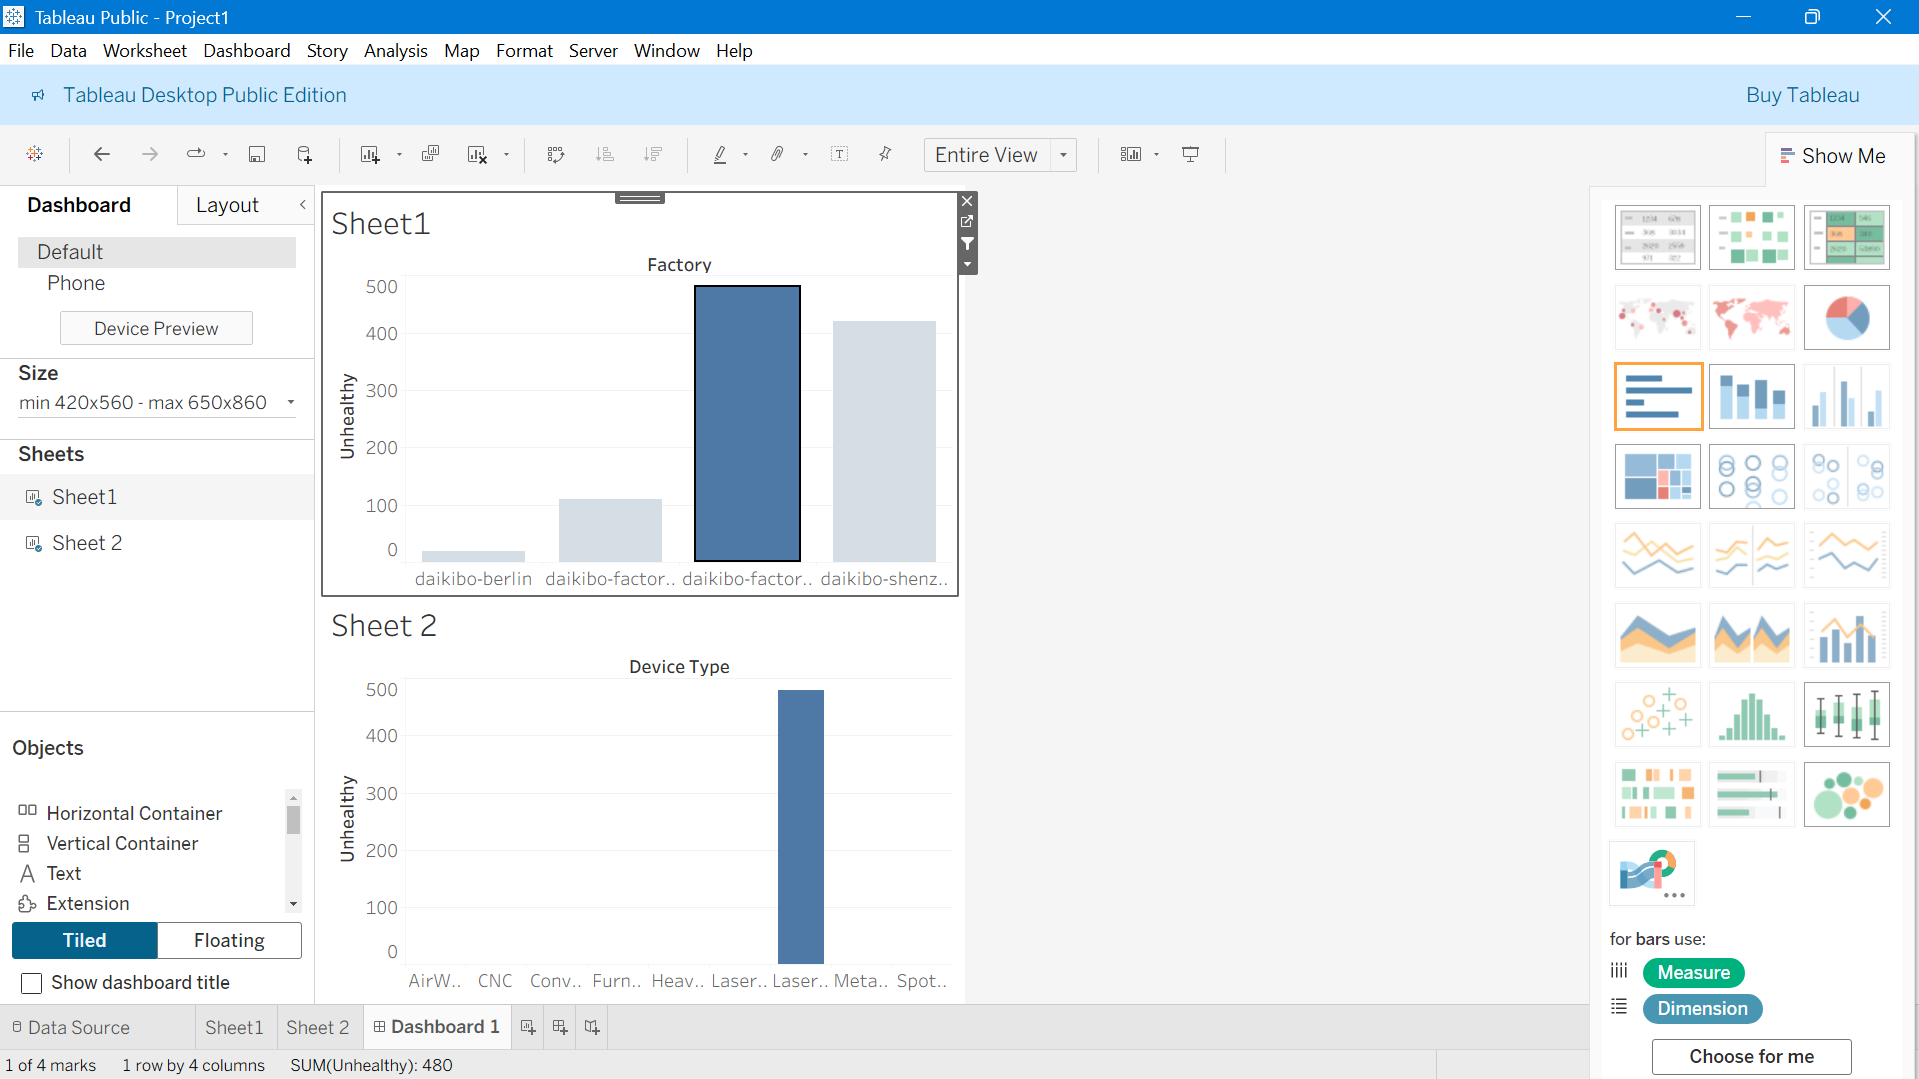

The dashboard page shown, as its layout file describes it:
{"tool":"tableau","page":{"name":"Dashboard 1","canvas":[650,860],"ordinal":0},"visuals":[{"type":"worksheet","title":"Sheet1","mark":"Automatic","rows":["Calculation_785033748454440962"],"cols":["factory"],"box":[8,8.4,634,421.6]},{"type":"worksheet","title":"Sheet 2","mark":"Automatic","rows":["Calculation_785033748454440962"],"cols":["deviceType"],"box":[8,430,634,421.6]}]}

Visuals, with their boxes on the page's 650x860 design canvas (x1, y1, x2, y2). These are canvas units, not pixel positions in the 1919x1079 screenshot, which may show the page scaled, cropped or inside an application window:
"Sheet1" worksheet: x1=8, y1=8, x2=642, y2=430
"Sheet 2" worksheet: x1=8, y1=430, x2=642, y2=852
